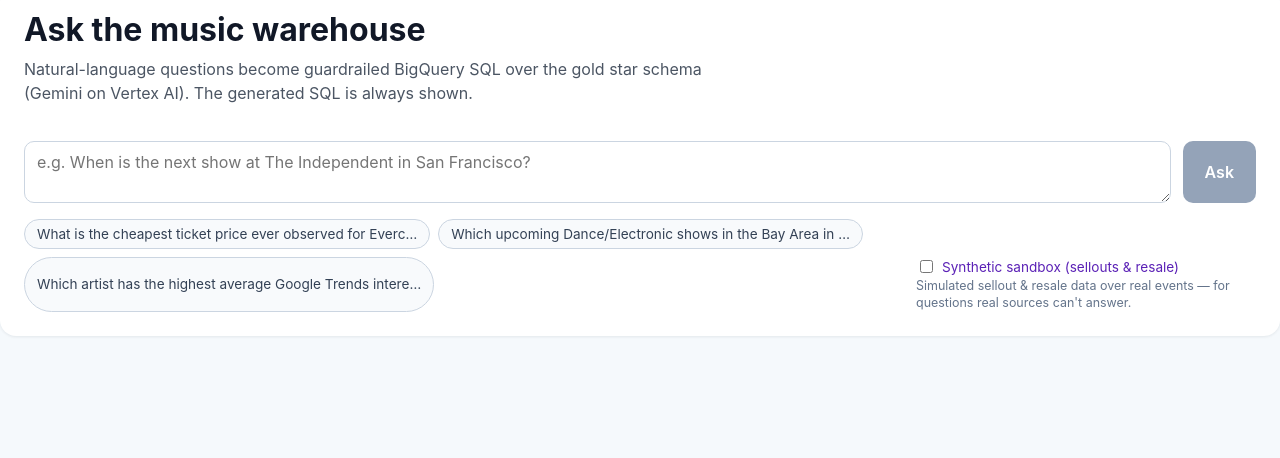
AskPanel › surfaces a transport failure as an alert
Type "How many events?" into the text box named "Question" at point(597, 172), box [24,141,1171,203]
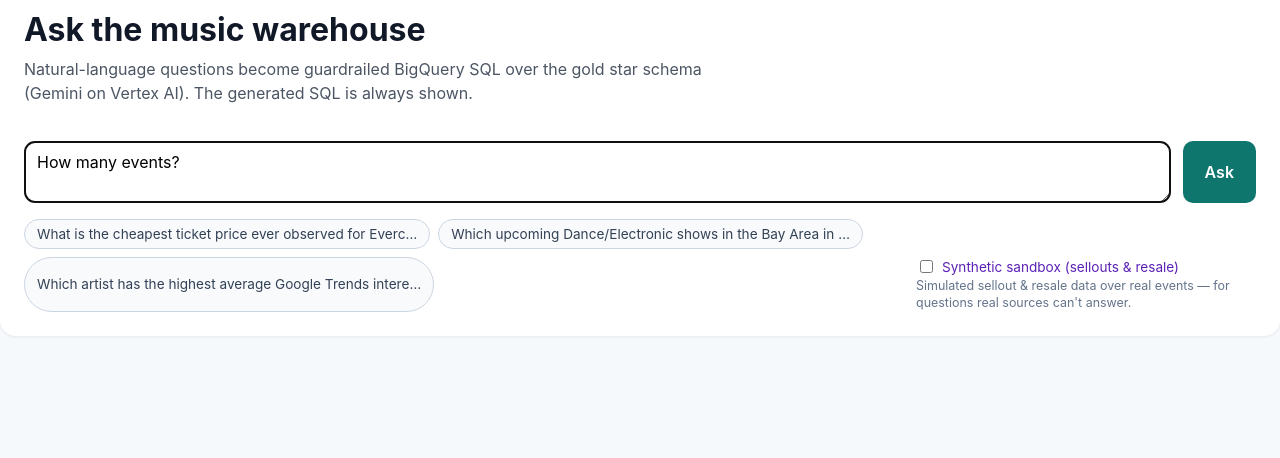
Click the button "Ask" at point(1219, 172), box [1183,141,1256,203]
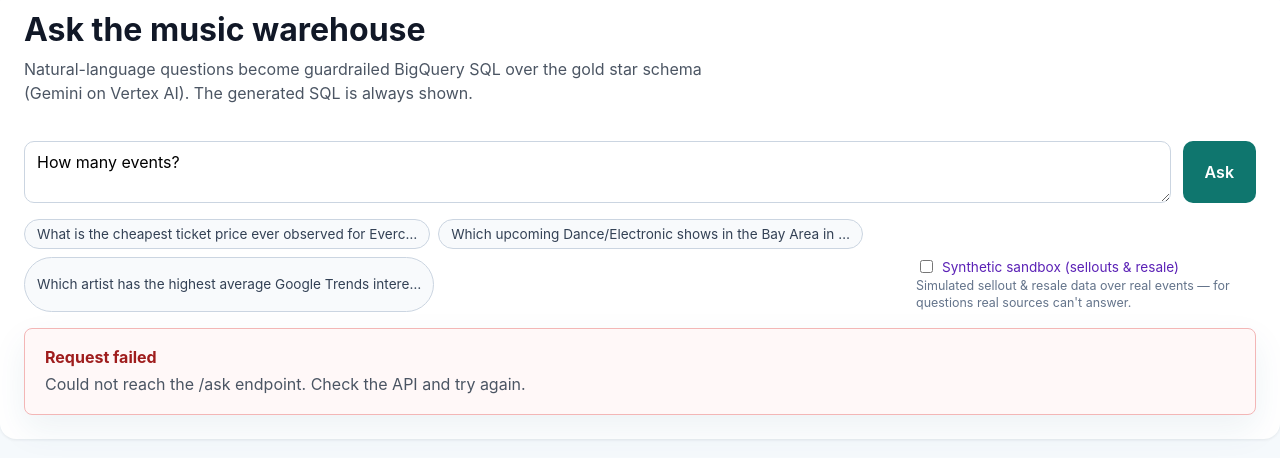
Now the message shows "Could not reach", box [45,374,526,394]
